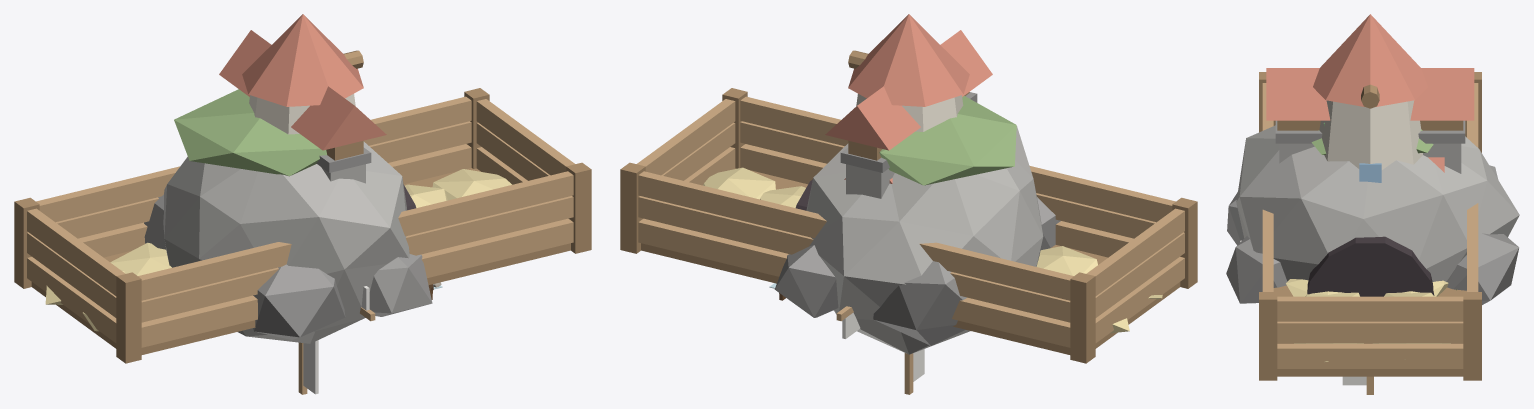
3 views of the same model, side by side, from view 1: azimuth 30°, elevation 25°; view 2: azimuth 150°, elevation 25°; view 3: azimuth 270°, elevation 25° (orthographic).
Visible parts, largest first — view 1: crate, cave, mill, town, mill_blades; view 2: crate, cave, mill, town, mill_blades; view 3: cave, crate, mill, town, mill_blades.
Boxes of the visible parts, bbox=[...] form: crate: bbox=[14, 88, 591, 363]; cave: bbox=[144, 89, 432, 343]; mill: bbox=[242, 14, 363, 134]; town: bbox=[219, 30, 386, 183]; mill_blades: bbox=[298, 286, 375, 394]; crate: bbox=[620, 88, 1197, 363]; cave: bbox=[774, 96, 1060, 354]; mill: bbox=[848, 14, 969, 131]; town: bbox=[825, 30, 992, 198]; mill_blades: bbox=[836, 306, 924, 394]; cave: bbox=[1226, 125, 1519, 304]; crate: bbox=[1259, 72, 1481, 380]; mill: bbox=[1313, 14, 1427, 182]; town: bbox=[1266, 68, 1474, 173]; mill_blades: bbox=[1230, 240, 1373, 394].
Bounding box in the file's own units: 2.94 × 2.25 × 1.58.
